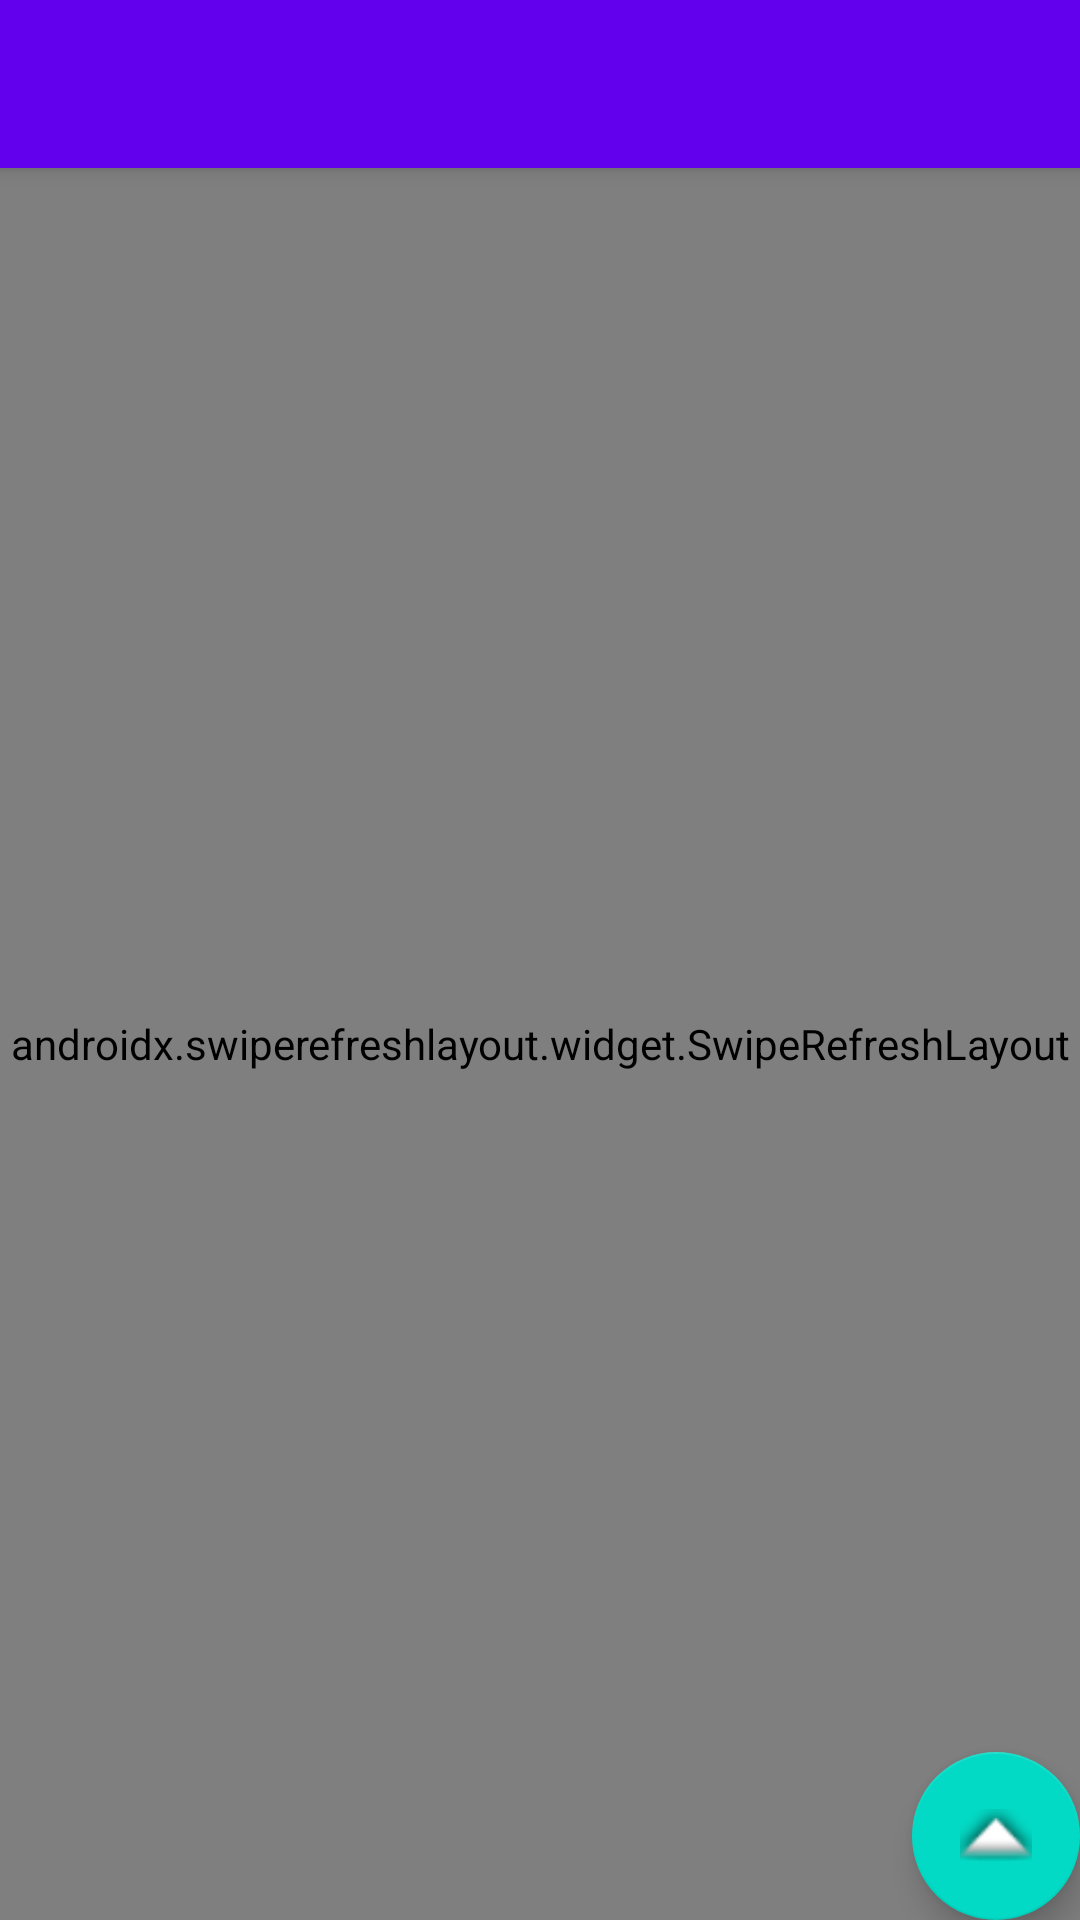

Locate icon controls on the screen. Image size 1080px×1920px, boxes as (x1, y1, x2, y2).
arrow up float: (912, 1752, 1080, 1920)
